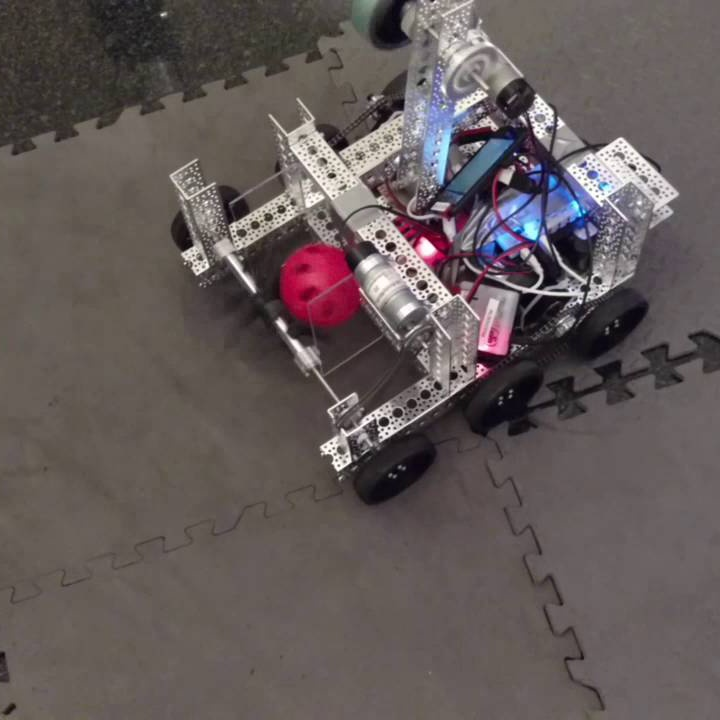redball: (272, 239, 363, 327)
robot: (163, 0, 684, 510)
